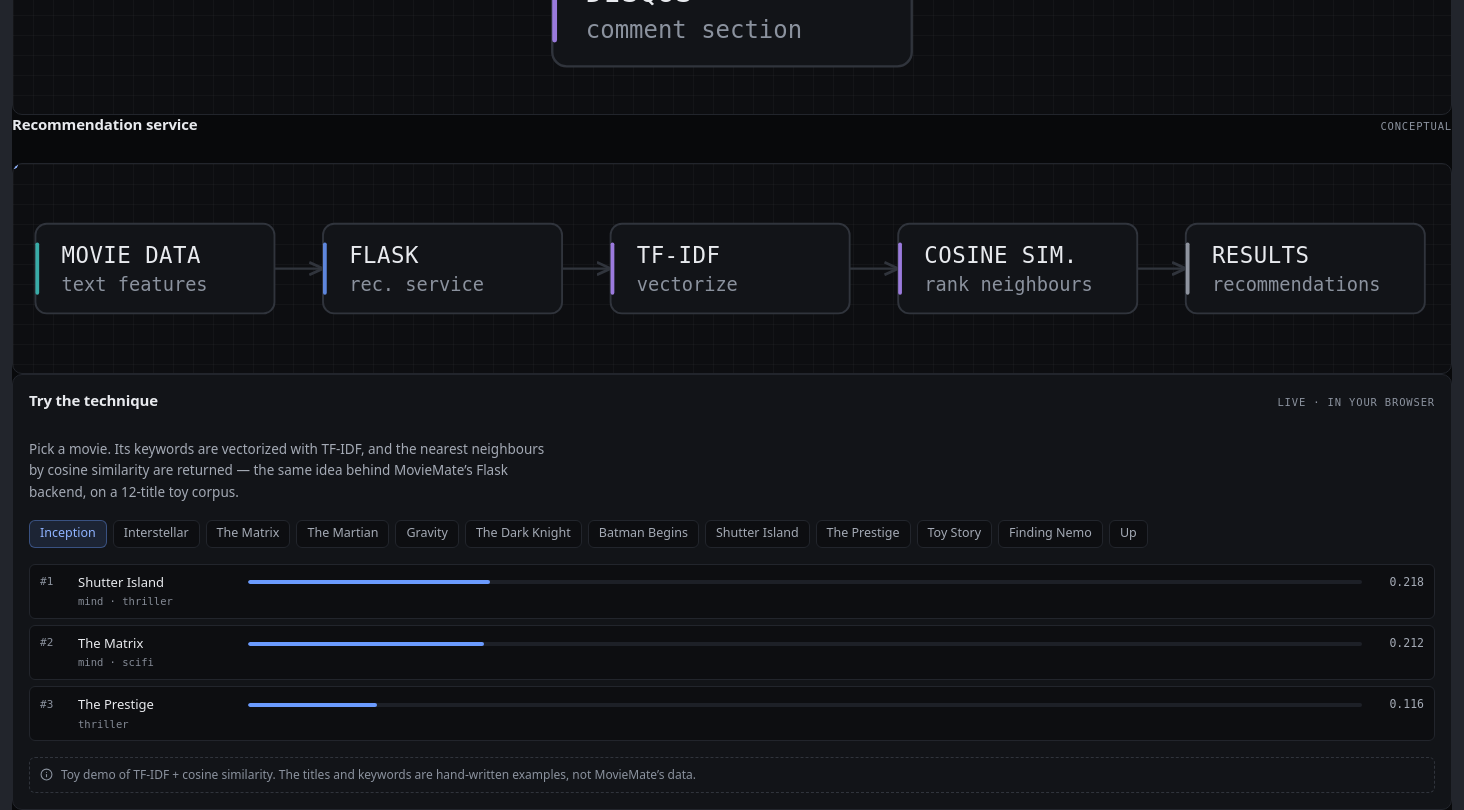
Test: MovieMate TF-IDF demo › recommends neighbours for the picked movie
(page scrolled)
Click the radio button labelled "Gravity" at coordinates (427, 534), box [395,520,459,548]
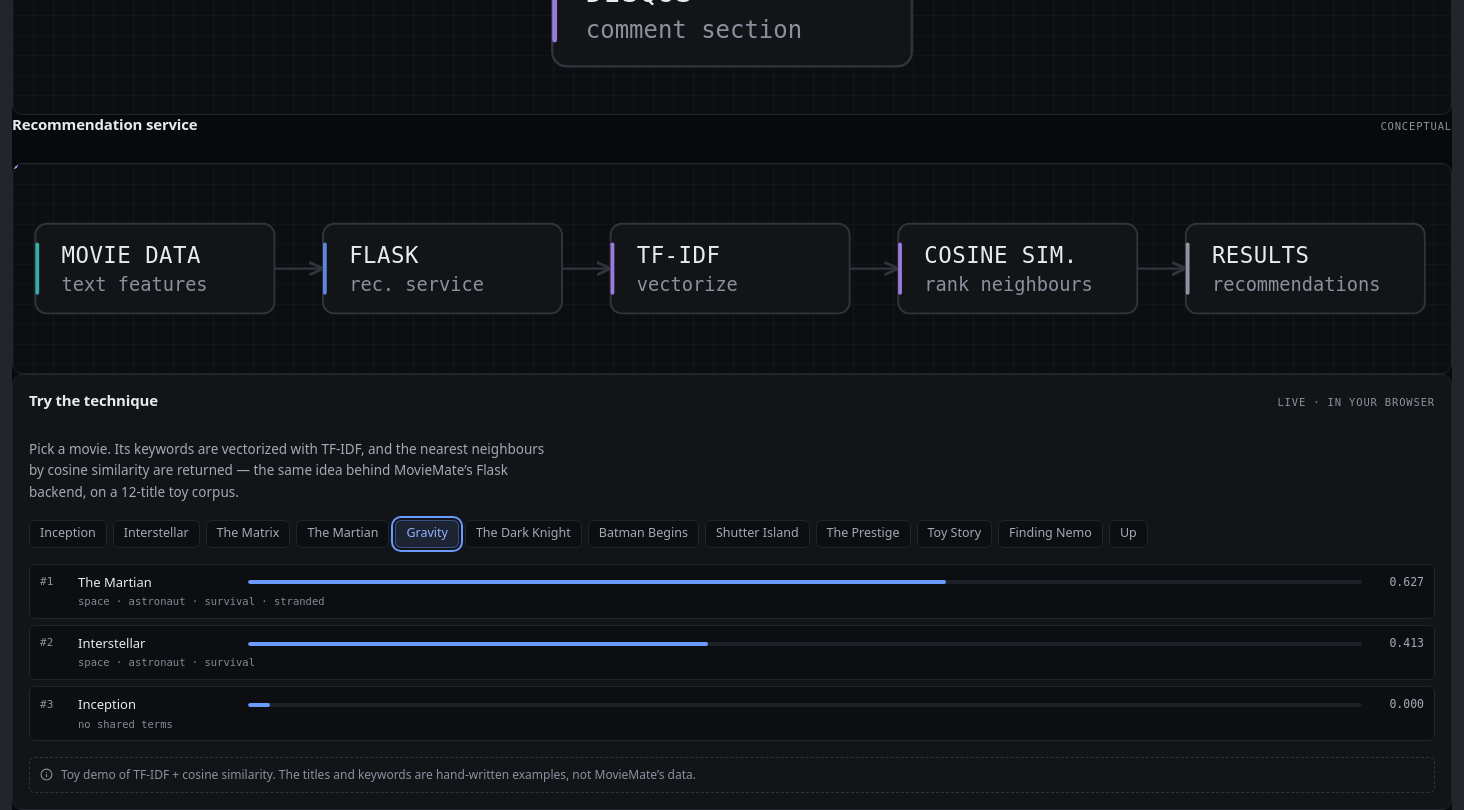
Expected: the list item "#1 The Martian 0.627 space · astronaut · survival · stranded" is shown, [29,564,1435,619]
